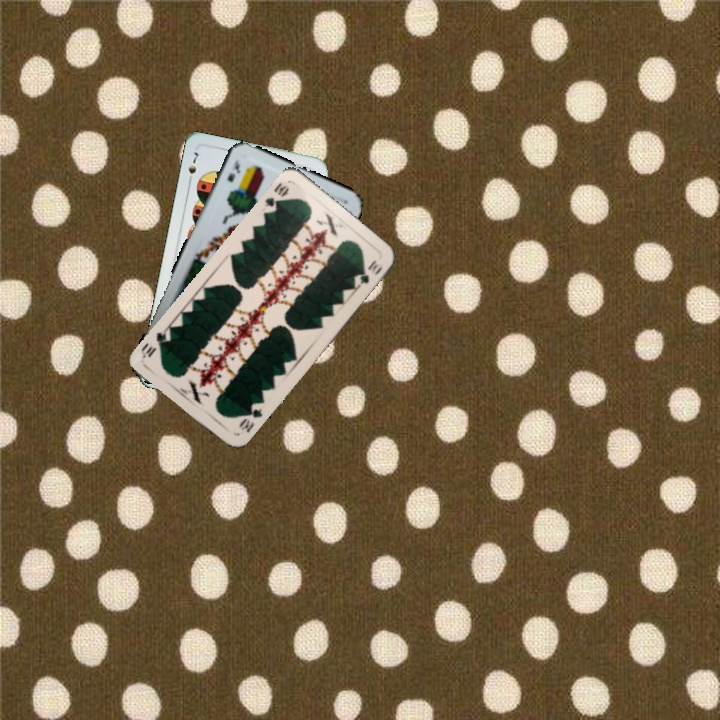EK: (223, 156, 243, 185)
G10: (261, 179, 292, 216), (234, 403, 265, 435)
S7: (184, 148, 201, 187)
